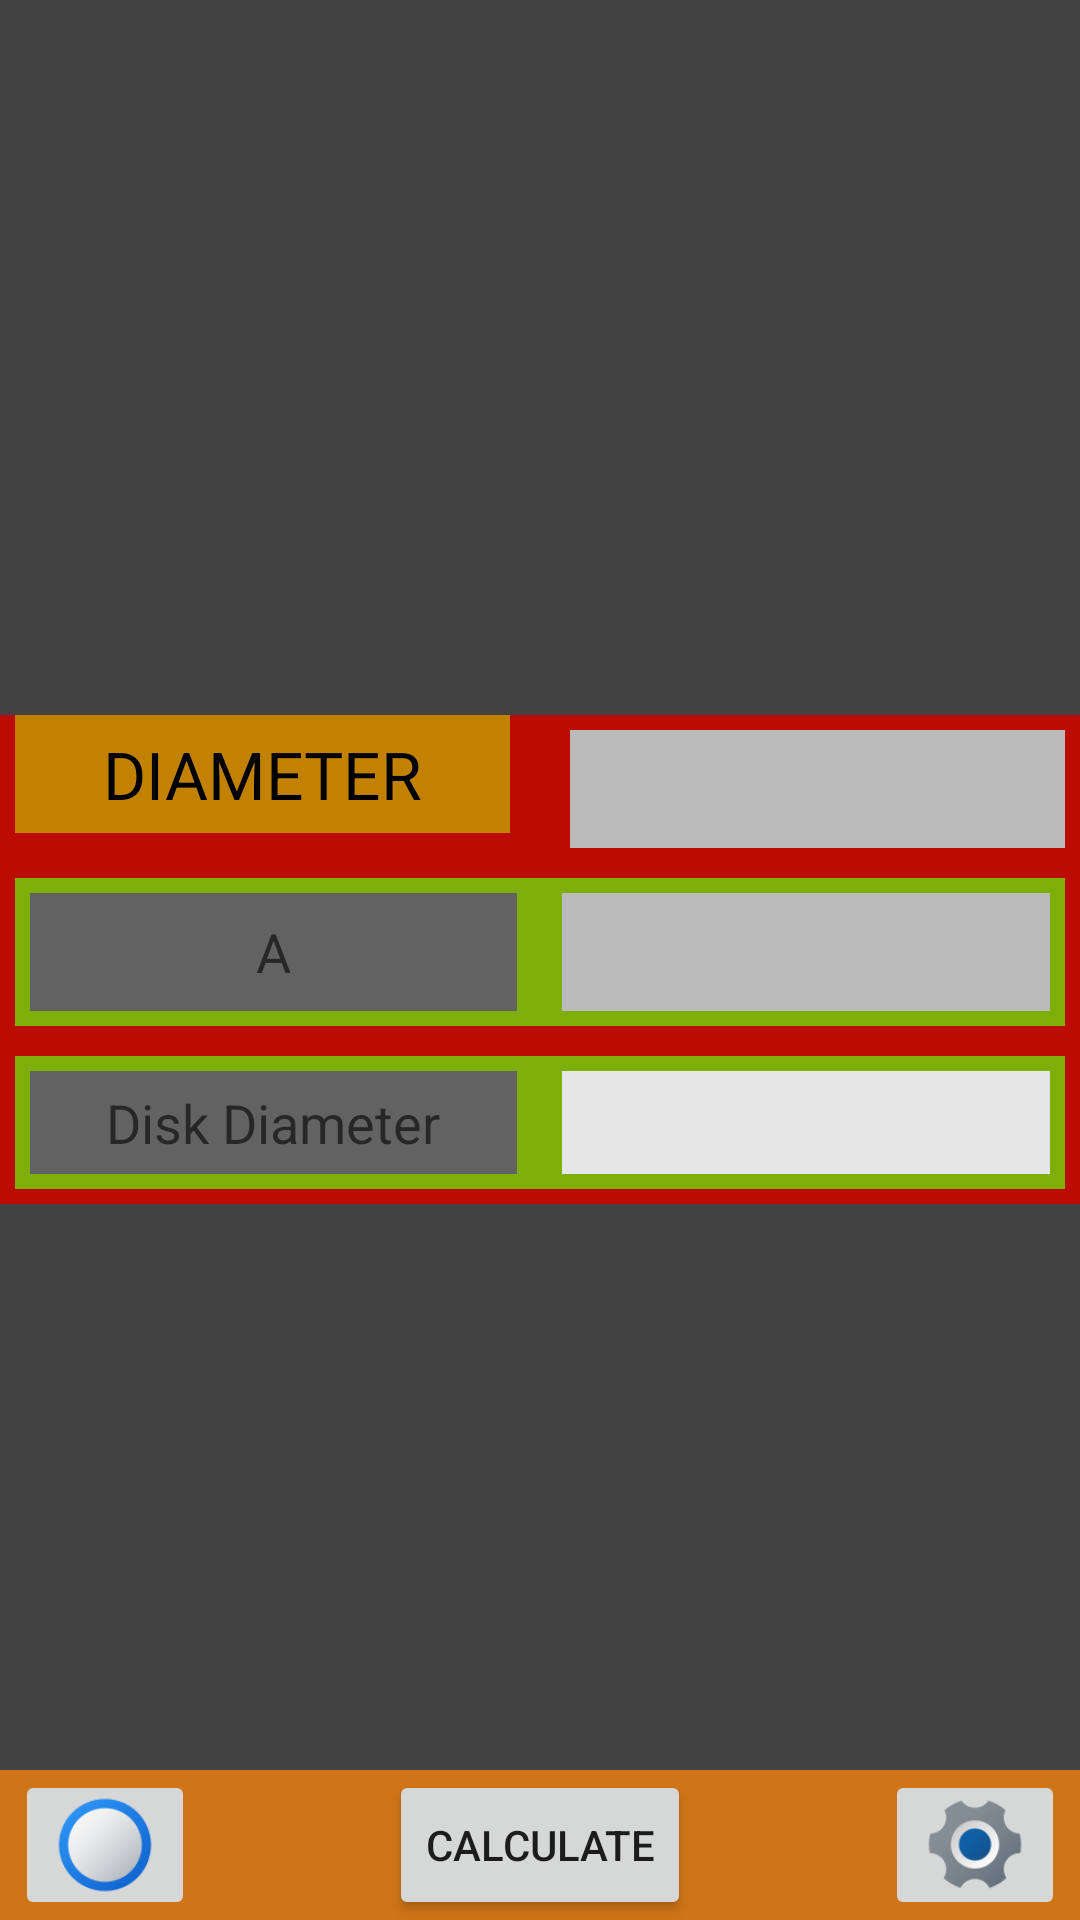

Where to tap for icons on this 1080px×1920px app screen, as (x,y):
win circle: (105,1845)
win settings: (975,1845)
